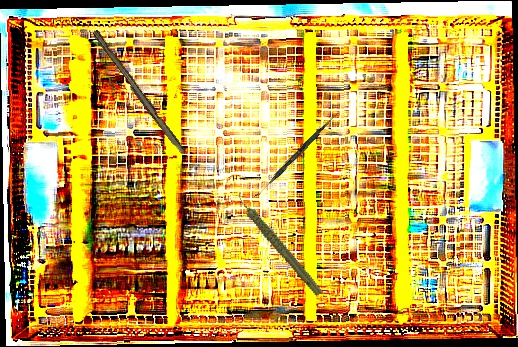Handpiece: (235, 178, 325, 309)
Scalpel Handle: (88, 29, 188, 156)
Spatula Surgical: (253, 111, 338, 201)
